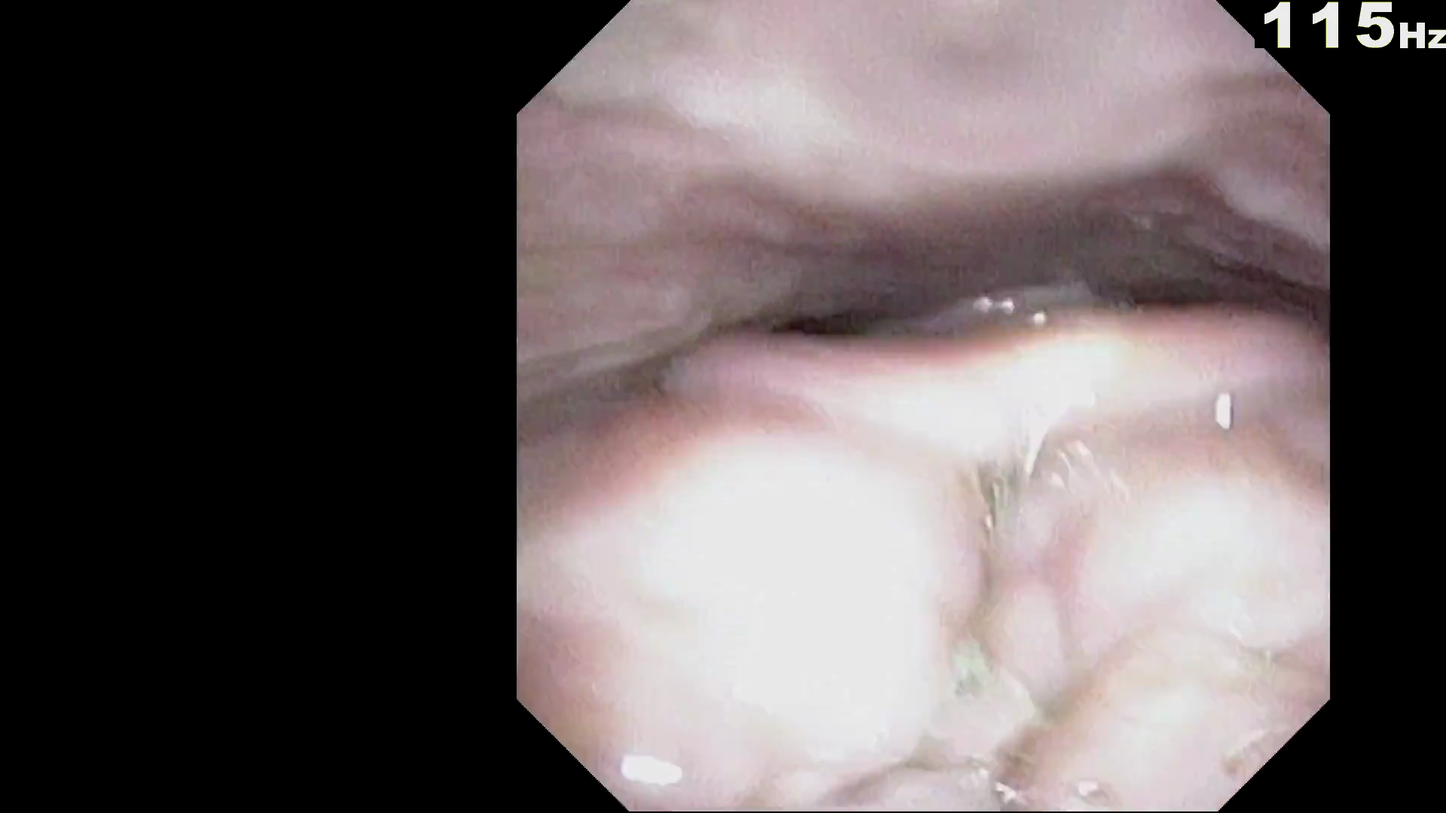epiglottis: (713, 556, 1263, 723)
